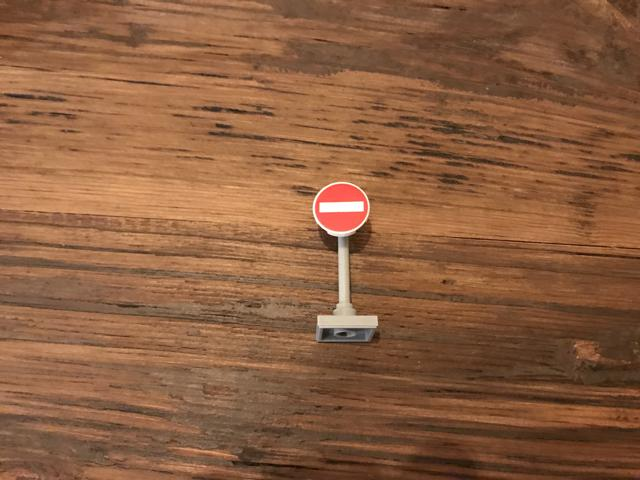verbot der einfahrt: (311, 181, 372, 236)
